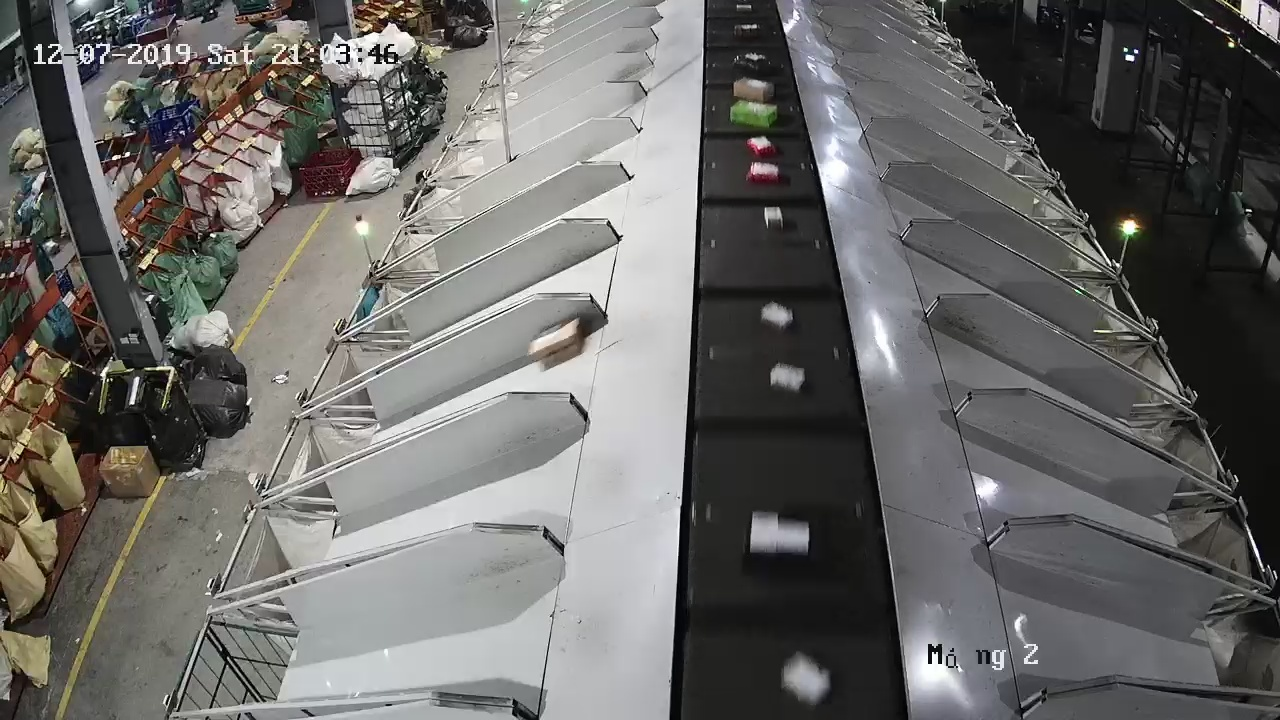parcel: (526, 315, 585, 371)
